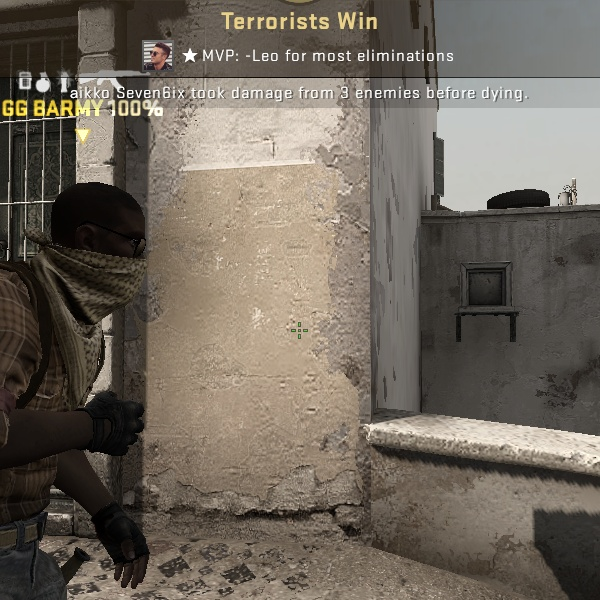t_body: (0, 172, 184, 600)
t_head: (25, 172, 160, 326)
